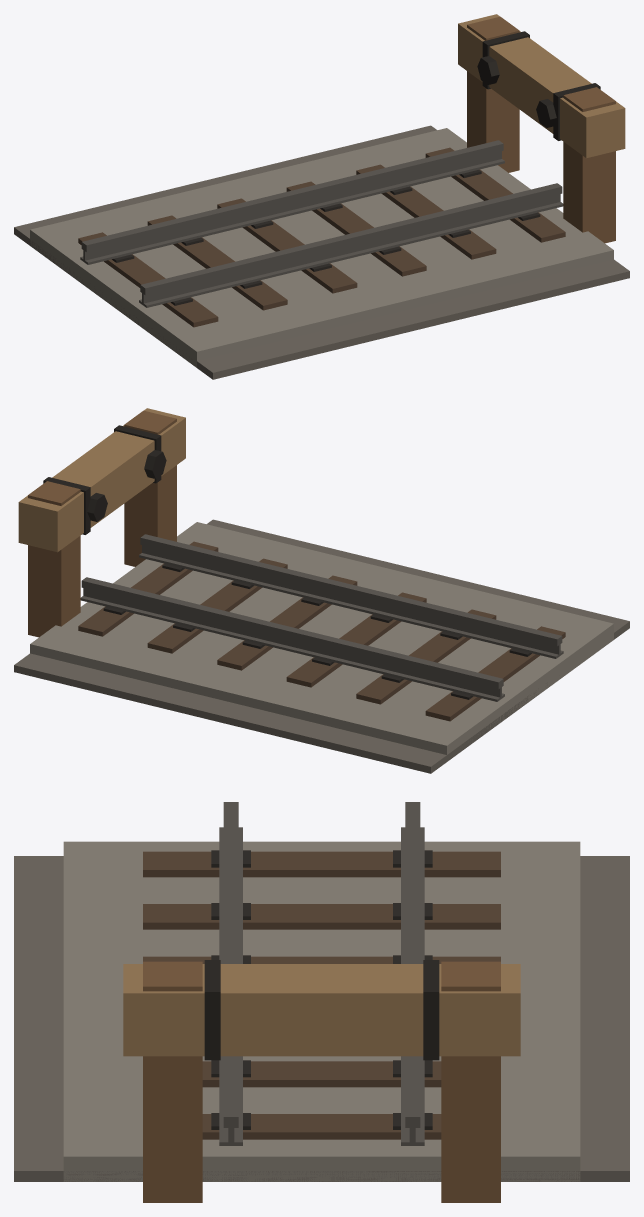
Rendered from rieles-riel-tope.glb.
The picture shows the model from 3 angles, top to bottom: view 1: azimuth 30°, elevation 25°; view 2: azimuth 150°, elevation 25°; view 3: azimuth 270°, elevation 25°; orthographic projection. The views are drawn at different scales.
Visible parts, largest first — view 1: riel_tope_Balasto, riel_tope_Riel, riel_tope_BalastoHombro, riel_tope_Durmiente, riel_tope_Madera, riel_tope_MaderaClara, riel_tope_Hierro, riel_tope_PlacaApoyo; view 2: riel_tope_Balasto, riel_tope_Riel, riel_tope_BalastoHombro, riel_tope_Durmiente, riel_tope_Madera, riel_tope_MaderaClara, riel_tope_Hierro, riel_tope_PlacaApoyo; view 3: riel_tope_Balasto, riel_tope_BalastoHombro, riel_tope_MaderaClara, riel_tope_Durmiente, riel_tope_Madera, riel_tope_Riel, riel_tope_Hierro, riel_tope_PlacaApoyo.
Part boxes in pixels (<box>): riel_tope_Balasto: <box>30,128,613,367</box>; riel_tope_Riel: <box>80,140,563,307</box>; riel_tope_BalastoHombro: <box>14,125,629,379</box>; riel_tope_Durmiente: <box>78,147,565,327</box>; riel_tope_Madera: <box>467,16,615,243</box>; riel_tope_MaderaClara: <box>458,14,625,158</box>; riel_tope_Hierro: <box>477,31,600,140</box>; riel_tope_PlacaApoyo: <box>112,170,540,305</box>; riel_tope_Balasto: <box>30,522,613,754</box>; riel_tope_Riel: <box>80,534,563,701</box>; riel_tope_BalastoHombro: <box>14,519,629,773</box>; riel_tope_Durmiente: <box>78,541,565,721</box>; riel_tope_Madera: <box>28,410,176,637</box>; riel_tope_MaderaClara: <box>18,408,185,552</box>; riel_tope_Hierro: <box>43,425,166,534</box>; riel_tope_PlacaApoyo: <box>103,564,531,699</box>; riel_tope_Balasto: <box>63,841,580,1181</box>; riel_tope_BalastoHombro: <box>14,856,629,1181</box>; riel_tope_MaderaClara: <box>123,964,520,1056</box>; riel_tope_Durmiente: <box>143,851,500,1139</box>; riel_tope_Madera: <box>143,961,500,1202</box>; riel_tope_Riel: <box>219,802,424,1145</box>; riel_tope_Hierro: <box>204,960,439,1060</box>; riel_tope_PlacaApoyo: <box>211,850,432,1129</box>.
Bounding box in the file's own units: 4.04 × 1.2 × 3.1.
